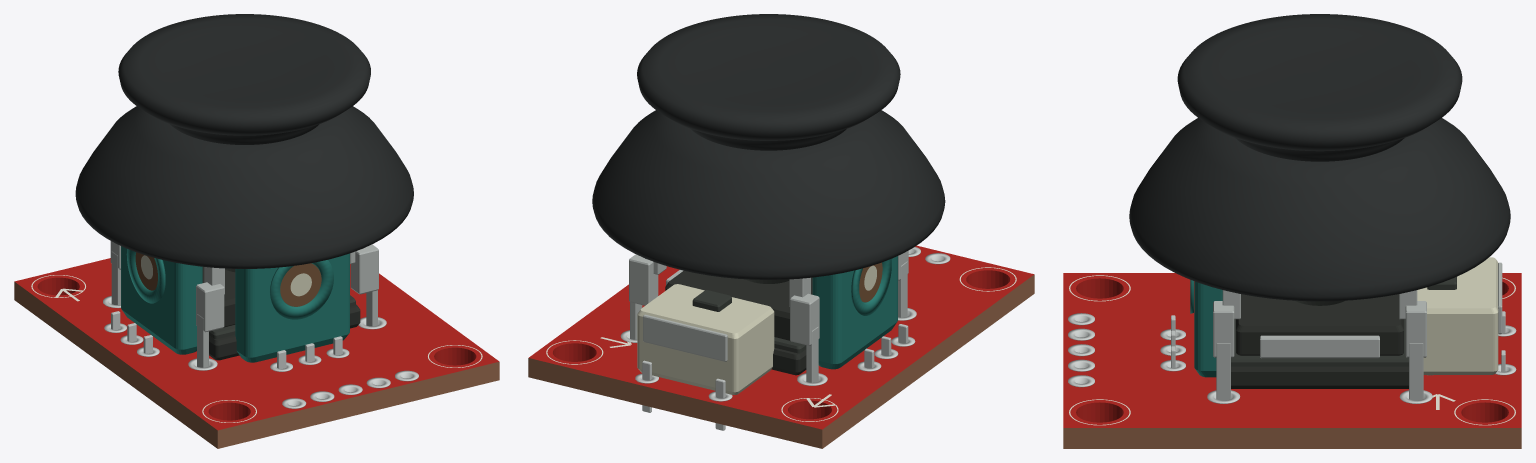
The model's file is joystick-sparkfun.glb.
3 views of the same model, side by side, from view 1: azimuth 30°, elevation 25°; view 2: azimuth 150°, elevation 25°; view 3: azimuth 270°, elevation 25° (orthographic). The views are drawn at different scales.
Parts seen in each view (by area): view 1: JOYSTICK_CAP, JOYSTICK_RED_BOB_09110_PCB, JOYSTICK_HORIZONTAL_POT_CARRIER, JOYSTICK_VERTICAL_POT_CARRIER, JOYSTICK_FOLDED_TINPLATE_SIDES_AND_FEET, JOYSTICK_HORIZONTAL_POT_ROTOR_DETAIL, JOYSTICK_PBT_LOWER_HOUSING, JOYSTICK_VERTICAL_POT_ROTOR_DETAIL, JOYSTICK_SOLDER_PADS, JOYSTICK_SOLDERED_NATIVE_LEGS, JOYSTICK_BREAKOUT_SILK_ARROWS; view 2: JOYSTICK_CAP, JOYSTICK_RED_BOB_09110_PCB, JOYSTICK_SELECT_TACT_SWITCH, JOYSTICK_VERTICAL_POT_CARRIER, JOYSTICK_FOLDED_TINPLATE_SIDES_AND_FEET, JOYSTICK_PBT_LOWER_HOUSING, JOYSTICK_VERTICAL_POT_ROTOR_DETAIL, JOYSTICK_SOLDER_PADS, JOYSTICK_SOLDERED_NATIVE_LEGS, JOYSTICK_BREAKOUT_SILK_ARROWS; view 3: JOYSTICK_CAP, JOYSTICK_RED_BOB_09110_PCB, JOYSTICK_PBT_LOWER_HOUSING, JOYSTICK_SELECT_TACT_SWITCH, JOYSTICK_FOLDED_TINPLATE_SIDES_AND_FEET, JOYSTICK_HORIZONTAL_POT_CARRIER, JOYSTICK_SOLDER_PADS, JOYSTICK_BREAKOUT_SILK_ARROWS, JOYSTICK_SOLDERED_NATIVE_LEGS.
Part boxes in pixels (<box>): JOYSTICK_CAP: <box>75,14,413,268</box>; JOYSTICK_RED_BOB_09110_PCB: <box>14,258,499,448</box>; JOYSTICK_HORIZONTAL_POT_CARRIER: <box>235,253,349,362</box>; JOYSTICK_VERTICAL_POT_CARRIER: <box>121,246,202,354</box>; JOYSTICK_FOLDED_TINPLATE_SIDES_AND_FEET: <box>110,241,378,367</box>; JOYSTICK_HORIZONTAL_POT_ROTOR_DETAIL: <box>270,260,333,319</box>; JOYSTICK_PBT_LOWER_HOUSING: <box>202,267,360,360</box>; JOYSTICK_VERTICAL_POT_ROTOR_DETAIL: <box>126,249,165,303</box>; JOYSTICK_SOLDER_PADS: <box>103,296,386,371</box>; JOYSTICK_SOLDERED_NATIVE_LEGS: <box>111,311,342,368</box>; JOYSTICK_BREAKOUT_SILK_ARROWS: <box>31,275,482,422</box>; JOYSTICK_CAP: <box>592,14,945,279</box>; JOYSTICK_RED_BOB_09110_PCB: <box>528,245,1034,448</box>; JOYSTICK_SELECT_TACT_SWITCH: <box>637,284,774,394</box>; JOYSTICK_VERTICAL_POT_CARRIER: <box>812,256,897,369</box>; JOYSTICK_FOLDED_TINPLATE_SIDES_AND_FEET: <box>629,250,908,382</box>; JOYSTICK_PBT_LOWER_HOUSING: <box>665,270,812,375</box>; JOYSTICK_VERTICAL_POT_ROTOR_DETAIL: <box>851,259,891,315</box>; JOYSTICK_SOLDER_PADS: <box>620,308,916,401</box>; JOYSTICK_SOLDERED_NATIVE_LEGS: <box>642,324,908,430</box>; JOYSTICK_BREAKOUT_SILK_ARROWS: <box>546,267,1016,421</box>; JOYSTICK_CAP: <box>1129,14,1510,301</box>; JOYSTICK_RED_BOB_09110_PCB: <box>1063,273,1521,448</box>; JOYSTICK_PBT_LOWER_HOUSING: <box>1231,294,1408,388</box>; JOYSTICK_SELECT_TACT_SWITCH: <box>1417,257,1502,374</box>; JOYSTICK_FOLDED_TINPLATE_SIDES_AND_FEET: <box>1213,290,1426,400</box>; JOYSTICK_HORIZONTAL_POT_CARRIER: <box>1194,281,1222,377</box>; JOYSTICK_SOLDER_PADS: <box>1160,325,1516,403</box>; JOYSTICK_BREAKOUT_SILK_ARROWS: <box>1069,275,1515,425</box>; JOYSTICK_SOLDERED_NATIVE_LEGS: <box>1171,311,1505,371</box>.
Bounding box in the file's own units: 2.64 × 2.42 × 3.17.
